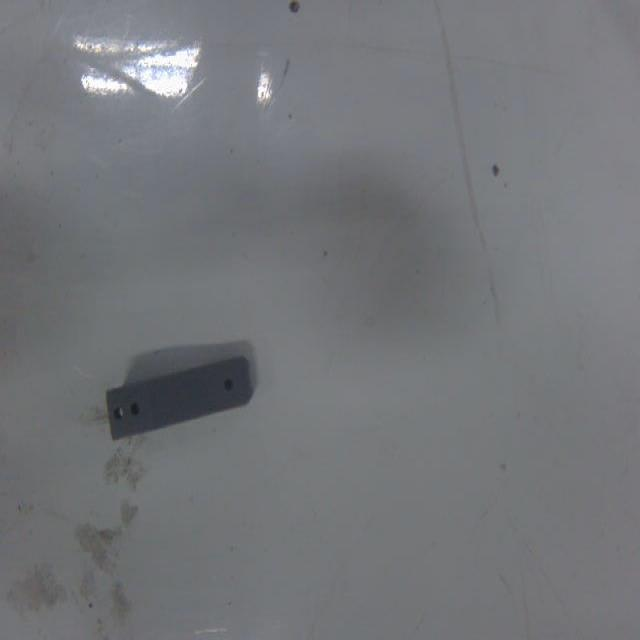grey: (110, 354, 254, 444)
head: (219, 373, 237, 392)
